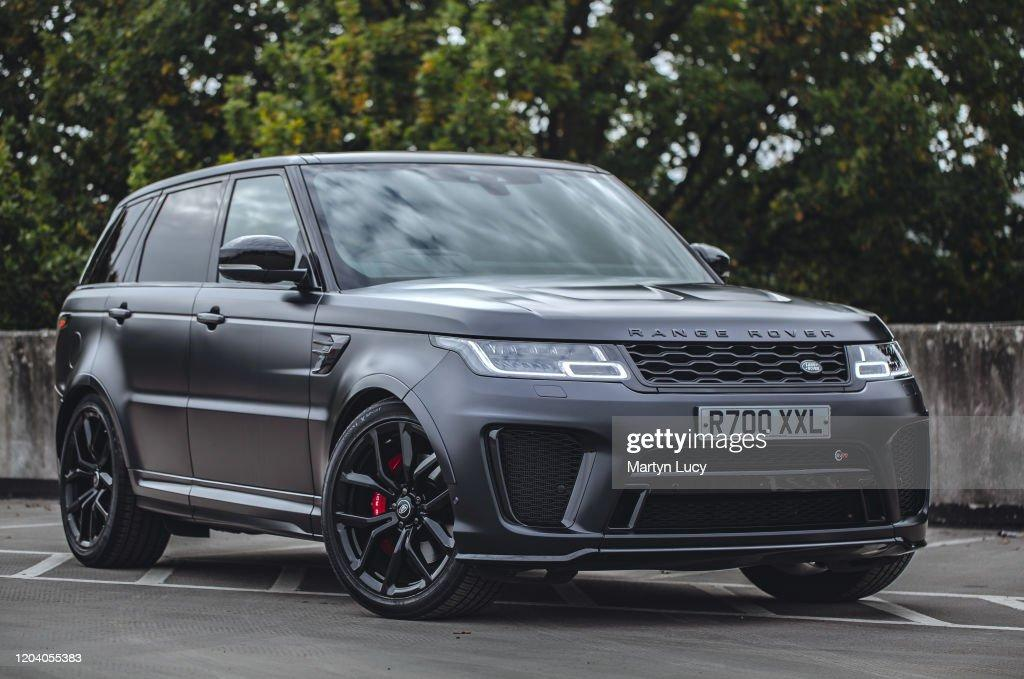range rover: (613, 313, 852, 355)
